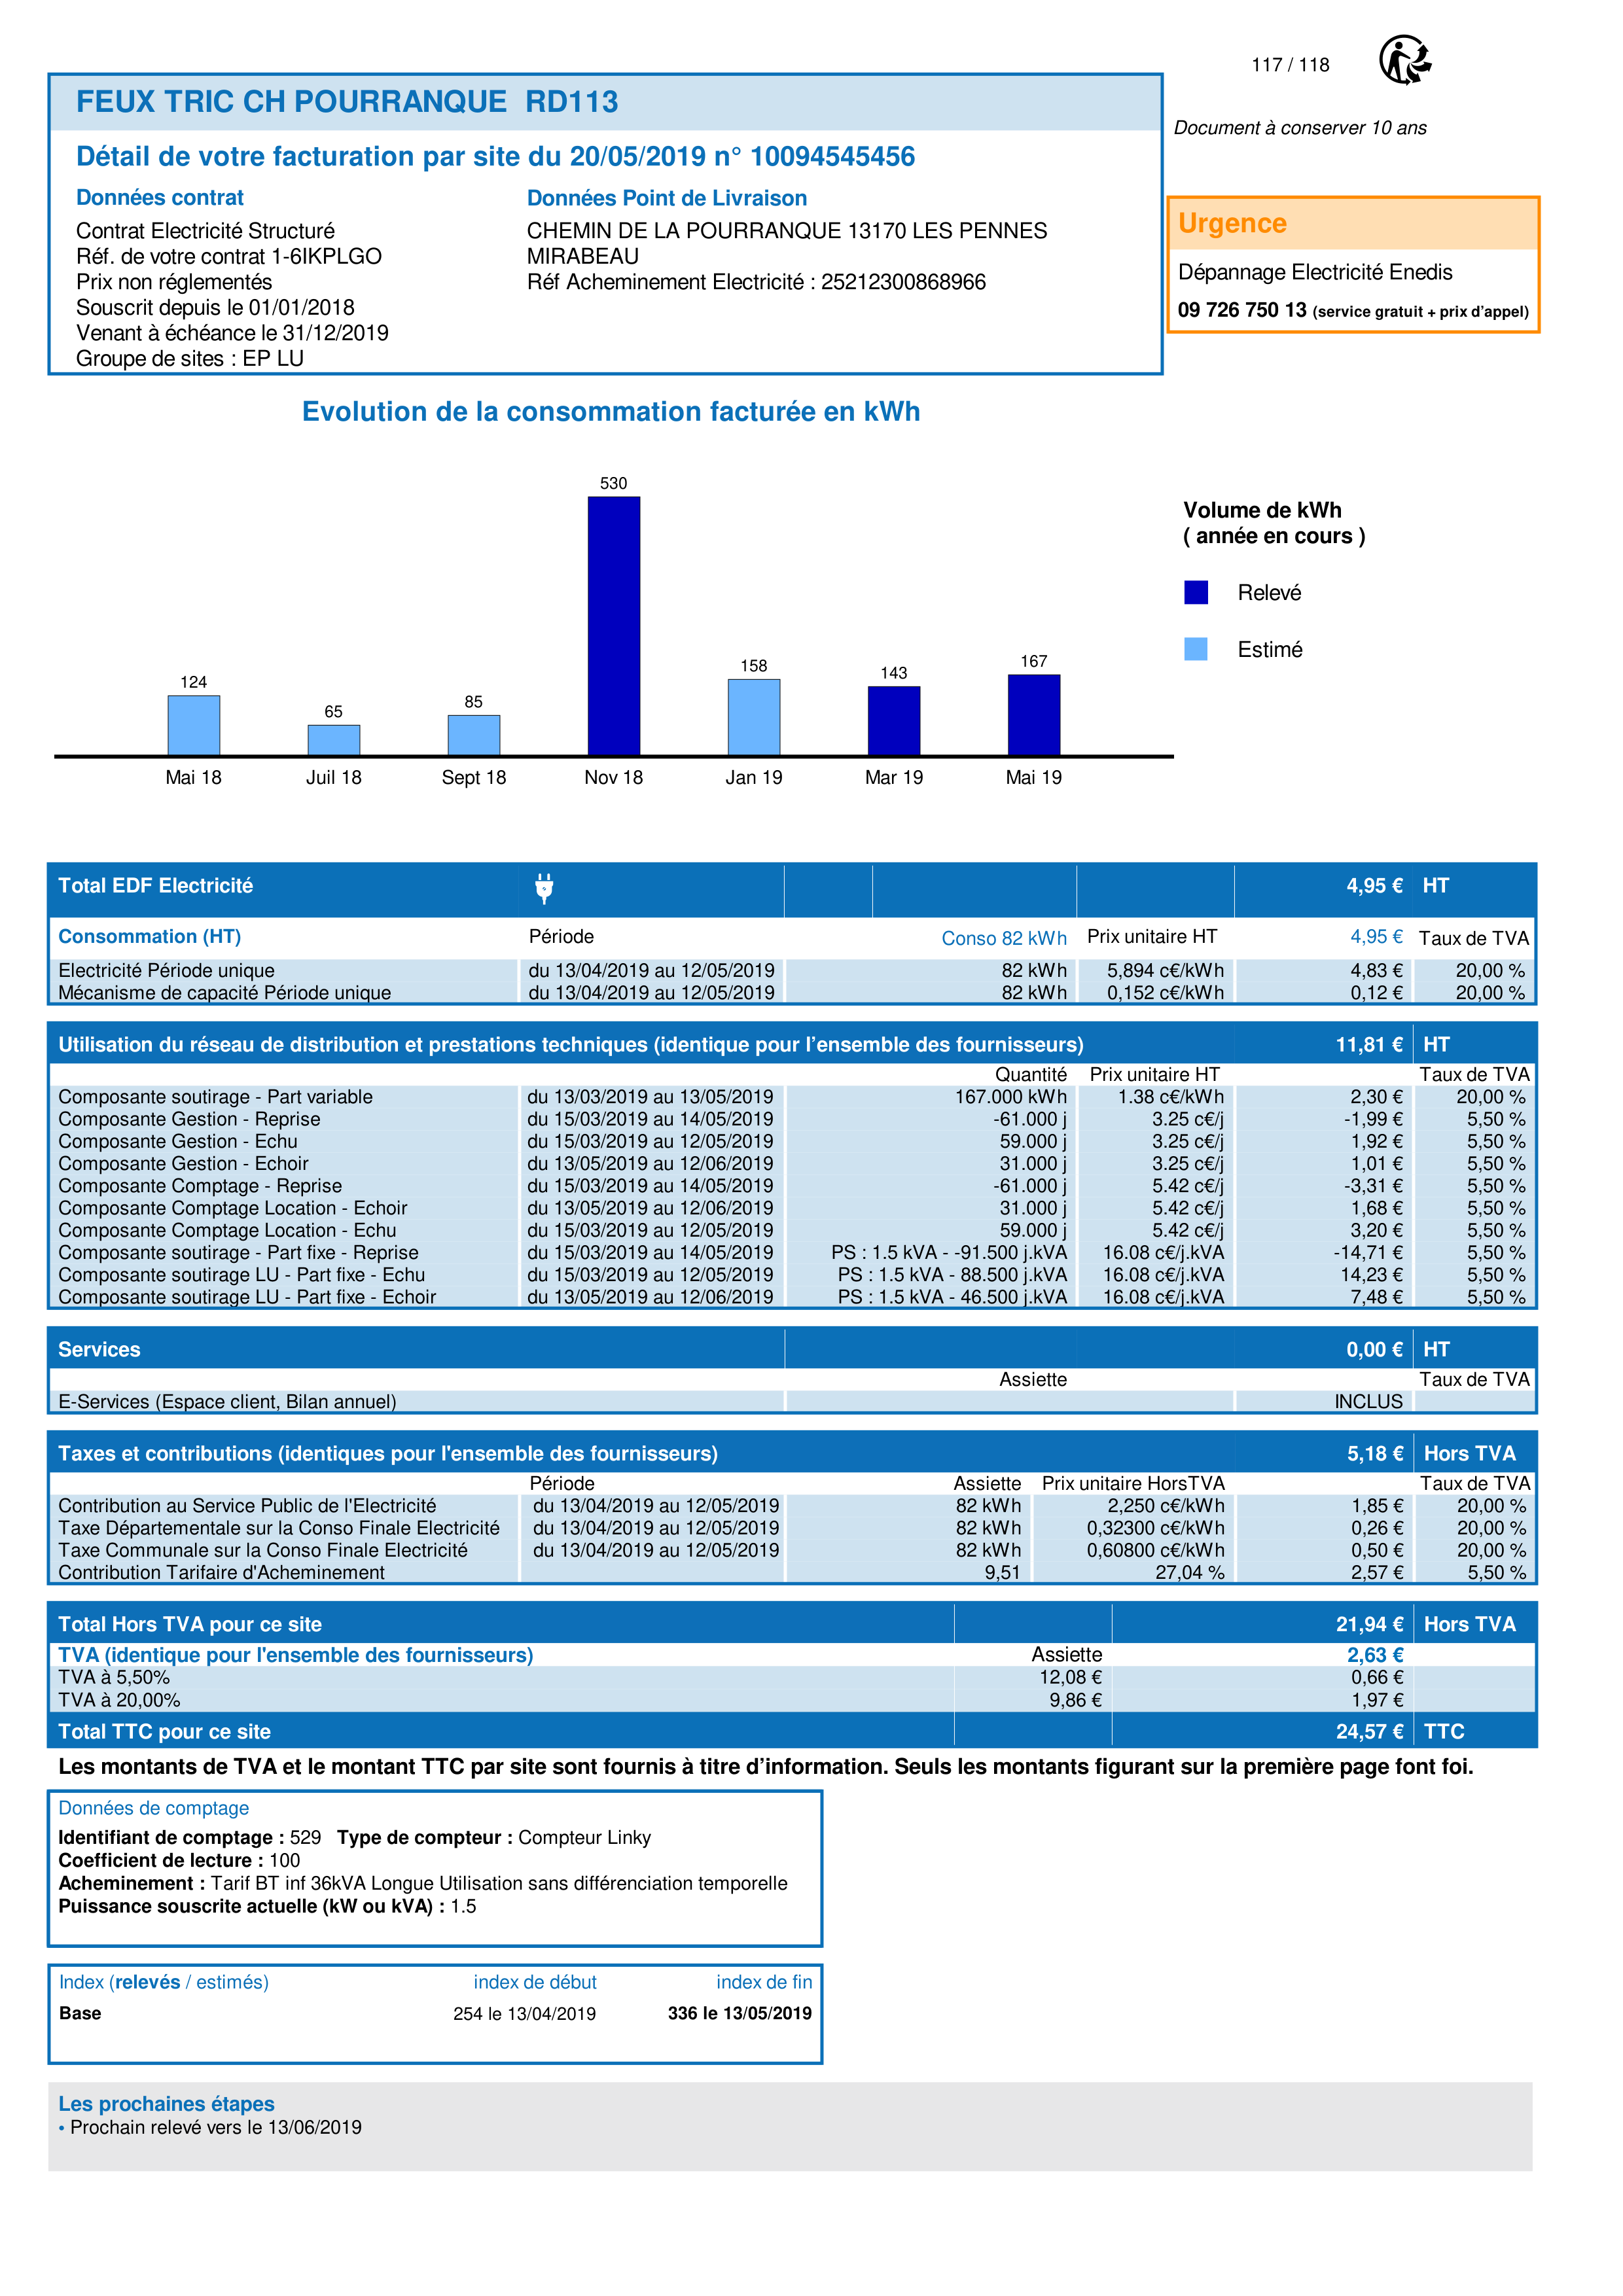area: (47, 1964, 821, 2064)
type_indicator: (47, 1964, 286, 1997)
